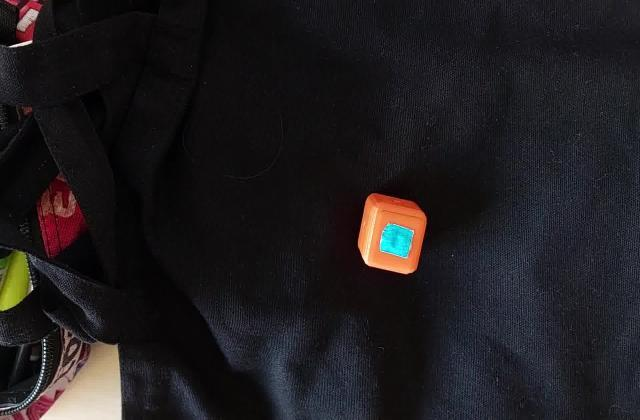blue: (388, 230, 408, 252)
sticker: (354, 188, 429, 278)
